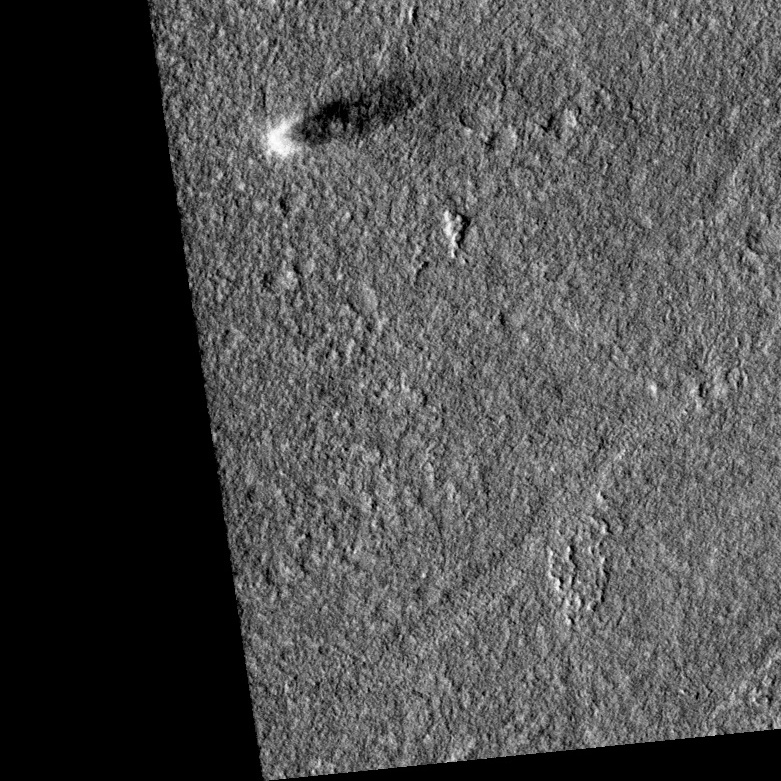dust_devil: (263, 65, 440, 160)
